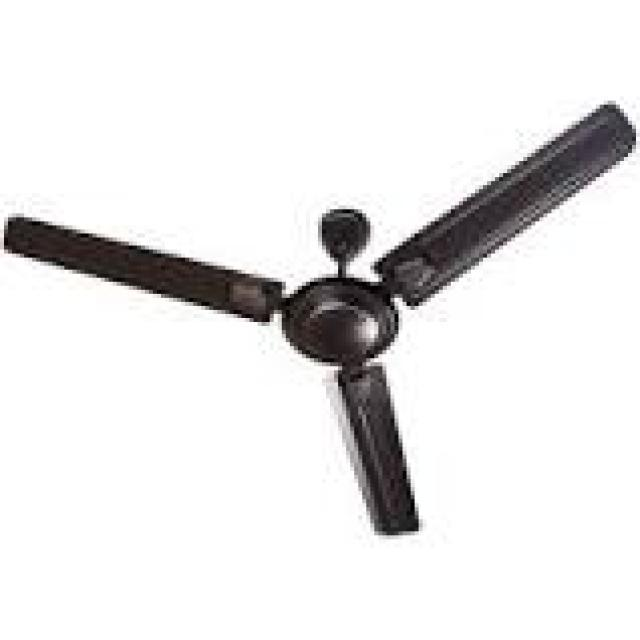fan_off: (5, 99, 628, 541)
